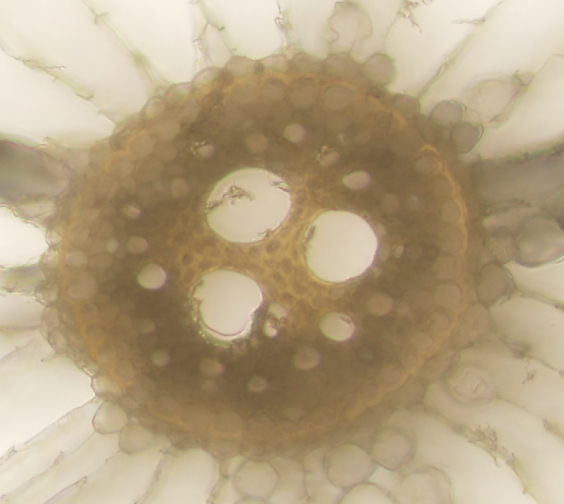lm: (205, 167, 291, 242), (302, 209, 376, 283), (192, 268, 263, 340)
